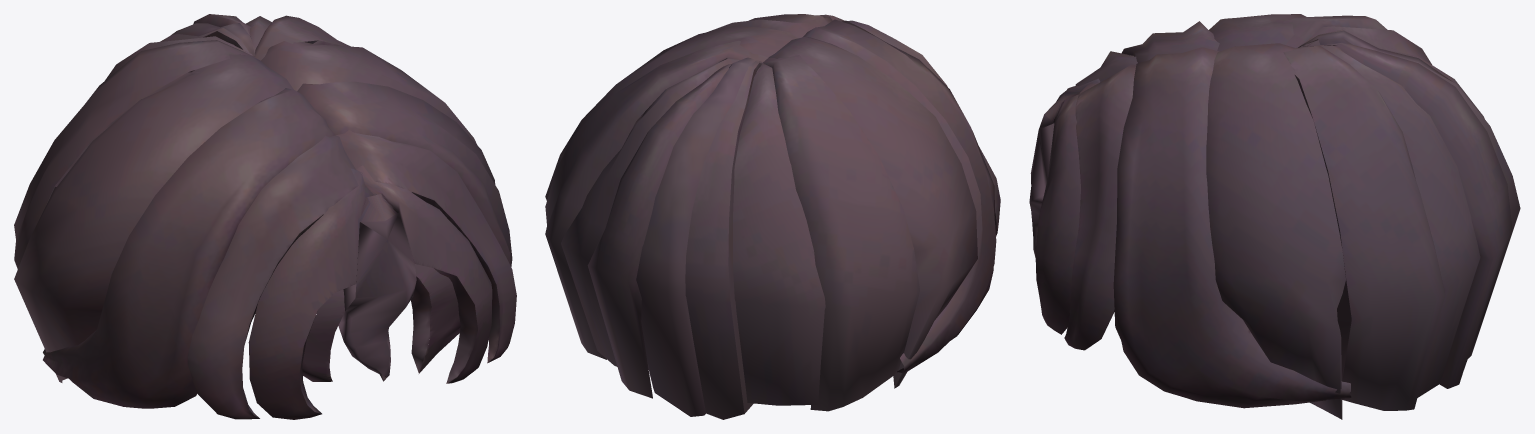
Rendered from hair_short.glb.
3 renders of one model, left to right at view 1: azimuth 30°, elevation 25°; view 2: azimuth 150°, elevation 25°; view 3: azimuth 270°, elevation 25°, orthographic. The views are drawn at different scales.
Parts seen in each view (by area): view 1: Hairmodel; view 2: Hairmodel; view 3: Hairmodel.
Boxes of the visible parts, x1,y1,x2,y2 form: Hairmodel: (14, 14, 516, 419); Hairmodel: (545, 14, 1000, 419); Hairmodel: (1029, 14, 1520, 419).
Bounding box in the file's own units: 4.69 × 3.47 × 4.72.
1 material, 1 textured.
